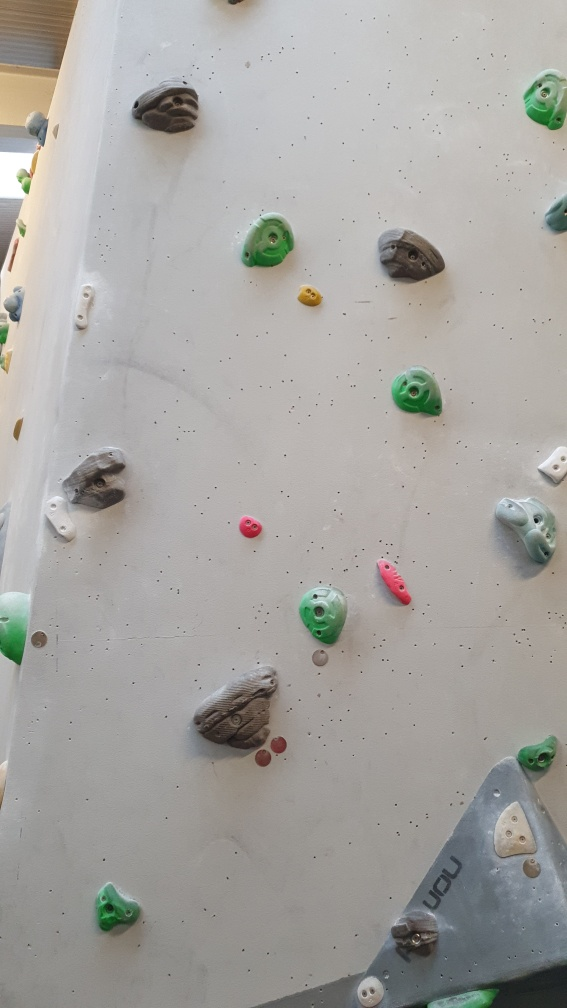Crimp: (374, 557, 414, 607), (534, 441, 567, 490), (75, 285, 99, 330)
Hand Start: (515, 852, 543, 882), (266, 731, 290, 755), (251, 743, 273, 768), (27, 628, 47, 653), (310, 647, 332, 667)
Jug: (191, 661, 277, 752), (495, 492, 560, 571), (59, 445, 131, 513), (131, 75, 204, 133), (375, 227, 447, 285), (299, 587, 353, 649), (241, 214, 298, 268), (391, 368, 447, 420), (526, 67, 567, 133), (516, 731, 562, 776)
